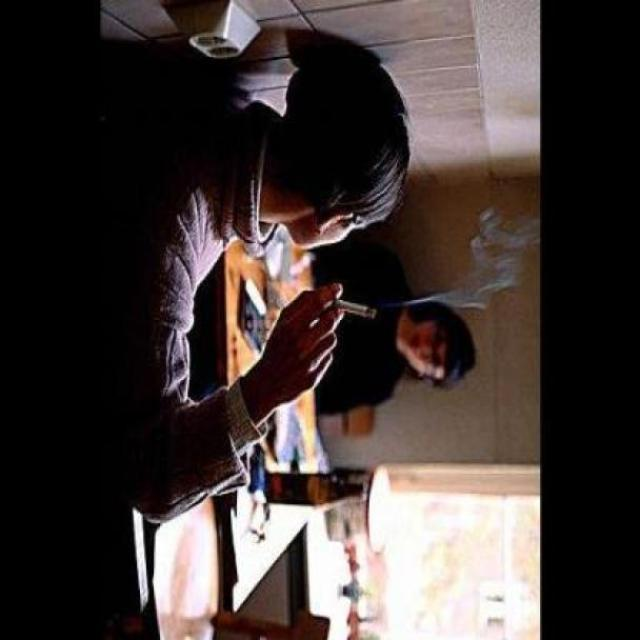rokok: (330, 294, 378, 322)
